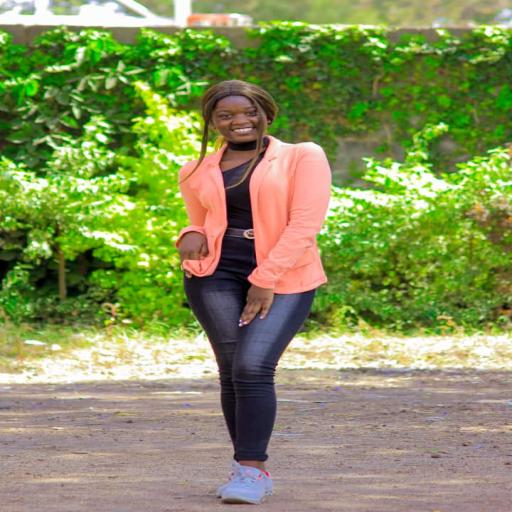LAURENE: (200, 76, 278, 153)
